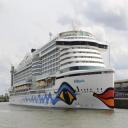cruises: (6, 21, 116, 116)
